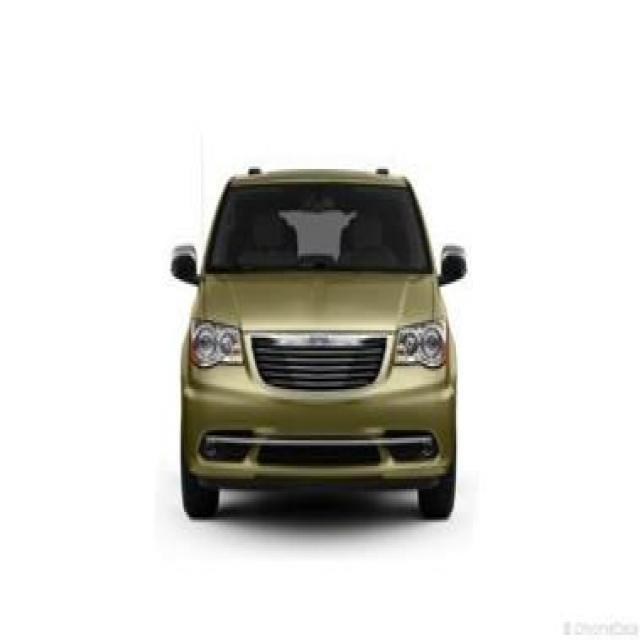Car: (96, 29, 530, 496)
